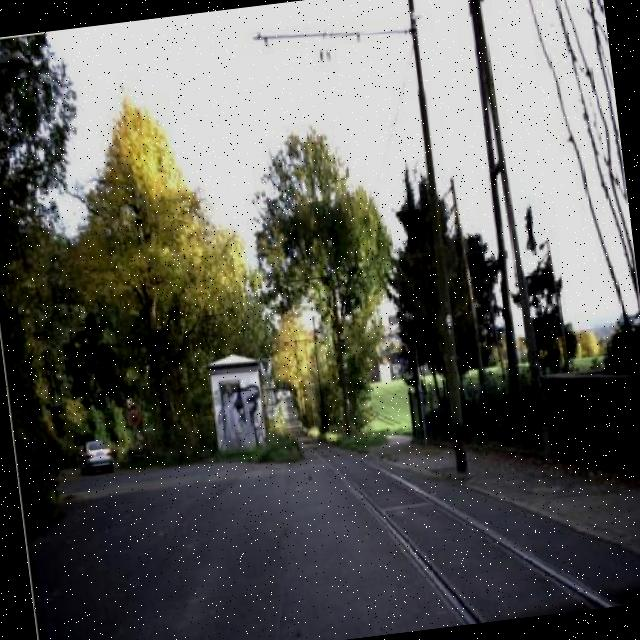Stop: (124, 402, 142, 428)
